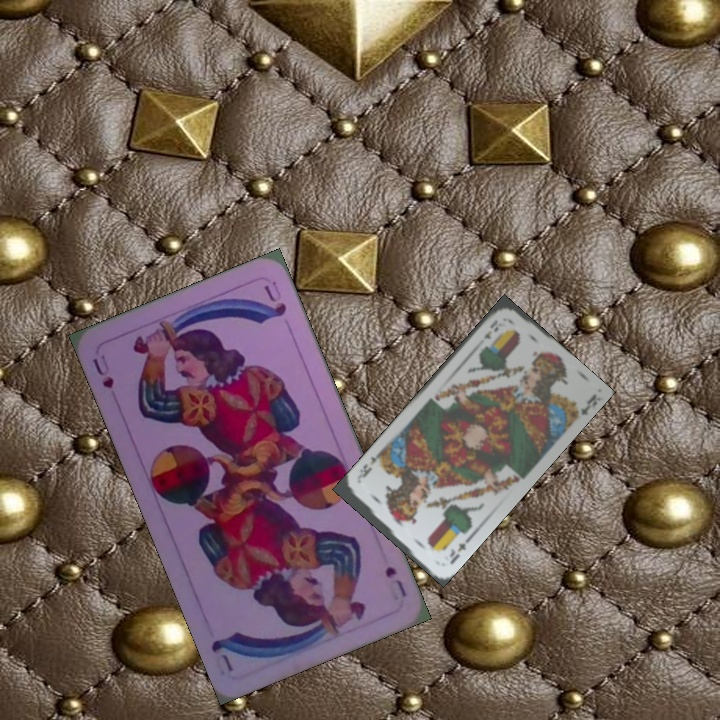EK: (445, 534, 473, 567), (480, 316, 501, 342)
SU: (88, 351, 117, 392), (380, 562, 409, 600)
